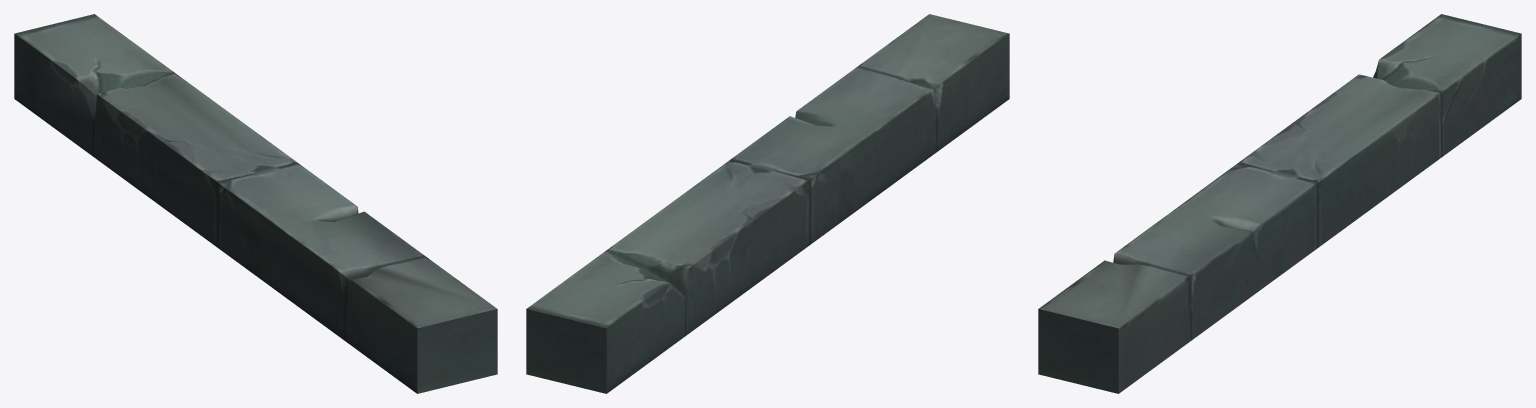
Rendered from Moba_yan.FBX.
The picture shows the model from 3 angles, left to right: view 1: azimuth 30°, elevation 25°; view 2: azimuth 150°, elevation 25°; view 3: azimuth 330°, elevation 25°; orthographic projection.
Visible parts, largest first — view 1: Moba_yan; view 2: Moba_yan; view 3: Moba_yan.
Part boxes in pixels (left/top/right/bottom): Moba_yan: left=14, top=14, right=497, bottom=393; Moba_yan: left=526, top=14, right=1009, bottom=393; Moba_yan: left=1038, top=14, right=1521, bottom=393.
Size of the model in its own units: 1.14 by 9.95 by 0.893.
